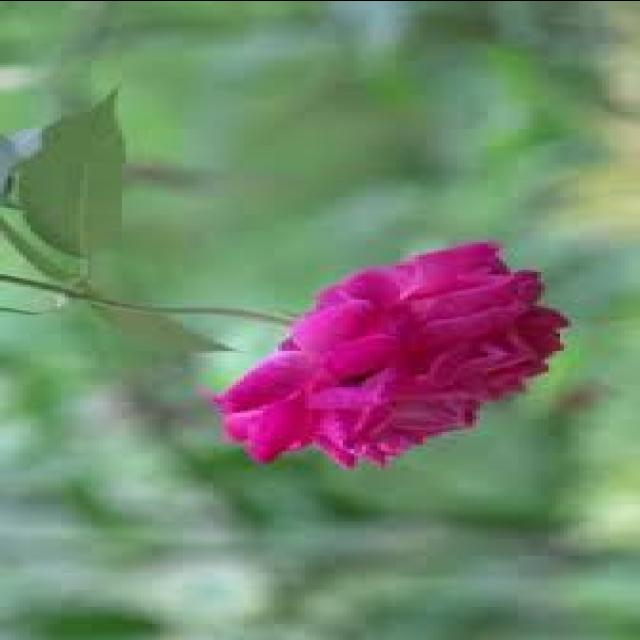rose: (205, 229, 565, 474)
